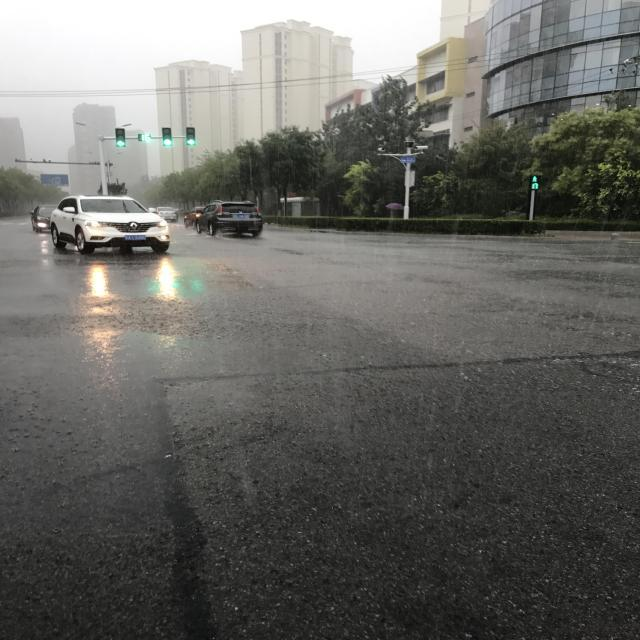car: (196, 469, 254, 592), (202, 376, 236, 444), (200, 582, 235, 610), (204, 436, 229, 457), (206, 462, 223, 485)
